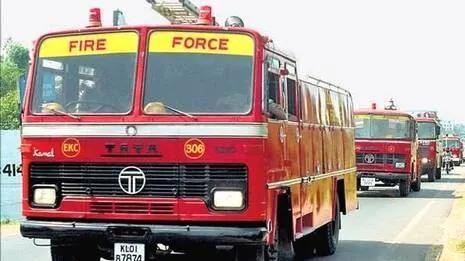Fire-engine: (19, 0, 359, 261), (60, 36, 240, 53)
